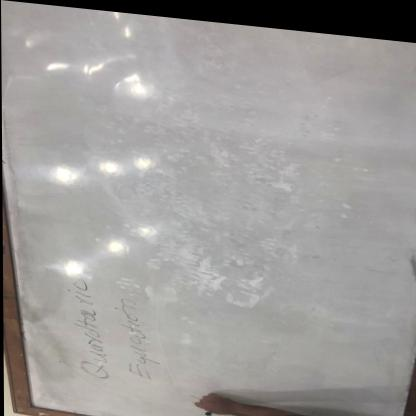Handwritten text: (63, 265, 109, 382), (115, 283, 163, 387)
Whiteboard: (1, 0, 416, 416)
